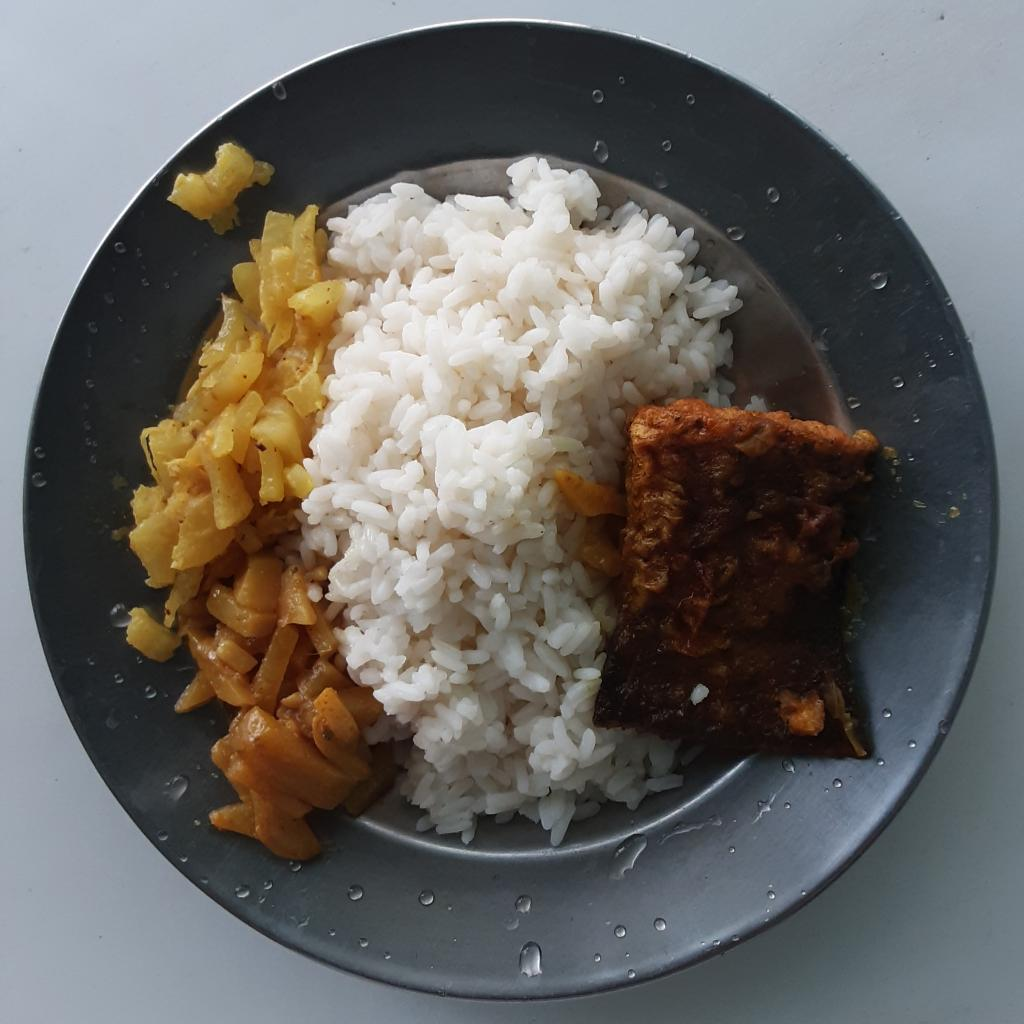fish: (594, 398, 879, 763)
kumra-vaji: (121, 201, 349, 668), (174, 137, 274, 230)
potato: (174, 549, 400, 875)
rice: (292, 154, 744, 847)
